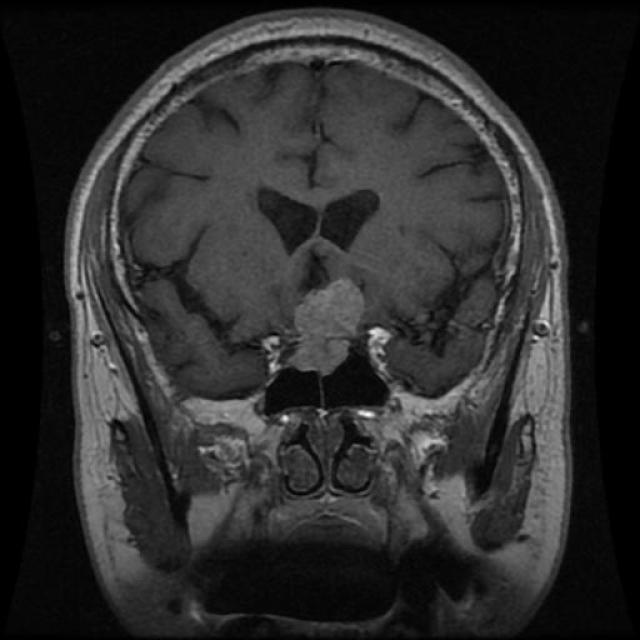pituitary: (254, 276, 402, 426)
